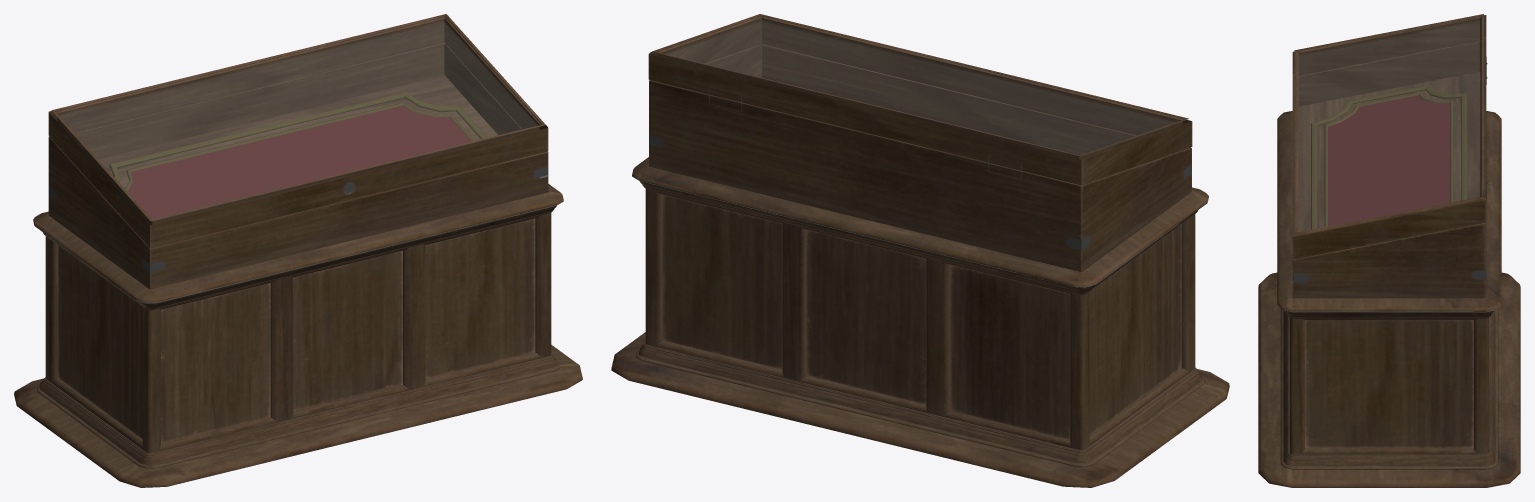
The model's file is Meja 1.fbx.
The picture shows the model from 3 angles, left to right: view 1: azimuth 30°, elevation 25°; view 2: azimuth 150°, elevation 25°; view 3: azimuth 270°, elevation 25°; orthographic projection. The views are drawn at different scales.
Visible parts, largest first — view 1: Meja 1_LOD0; view 2: Meja 1_LOD0; view 3: Meja 1_LOD0.
Part boxes in pixels (box(x1,y1,x2,y2)): Meja 1_LOD0: box(14, 14, 582, 487); Meja 1_LOD0: box(611, 14, 1229, 487); Meja 1_LOD0: box(1258, 14, 1520, 487).
Size of what is drawn, in the model's own units: 153 by 91.52 by 78.96.
